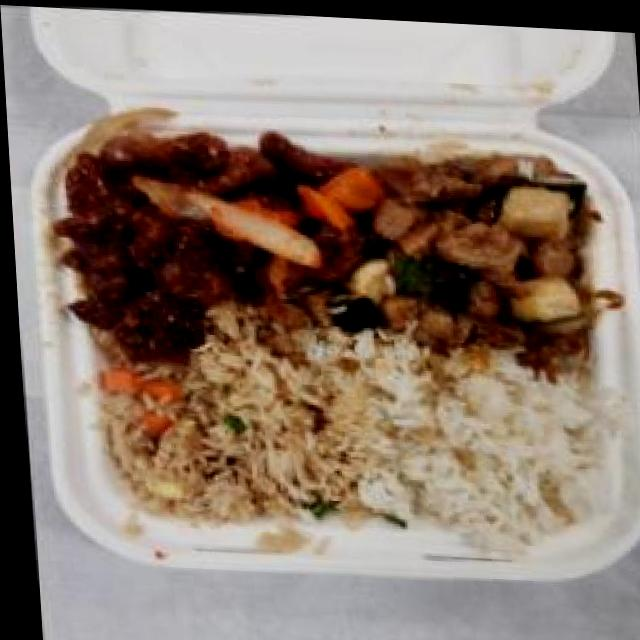Beijing Beef: (37, 99, 367, 375)
Fried Rice: (88, 315, 380, 535)
Kung Pao Chicken: (351, 137, 616, 360)
White Steamed Rice: (345, 341, 619, 542)
